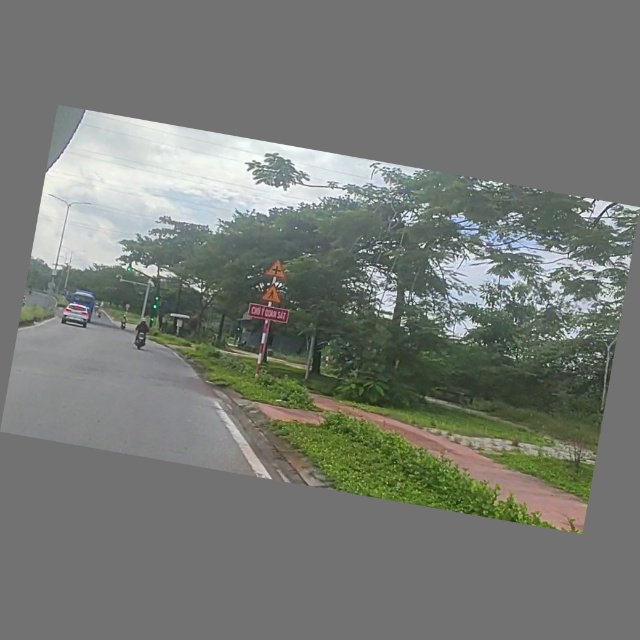W.205a: (265, 258, 290, 281)
W.224: (258, 282, 288, 306)
